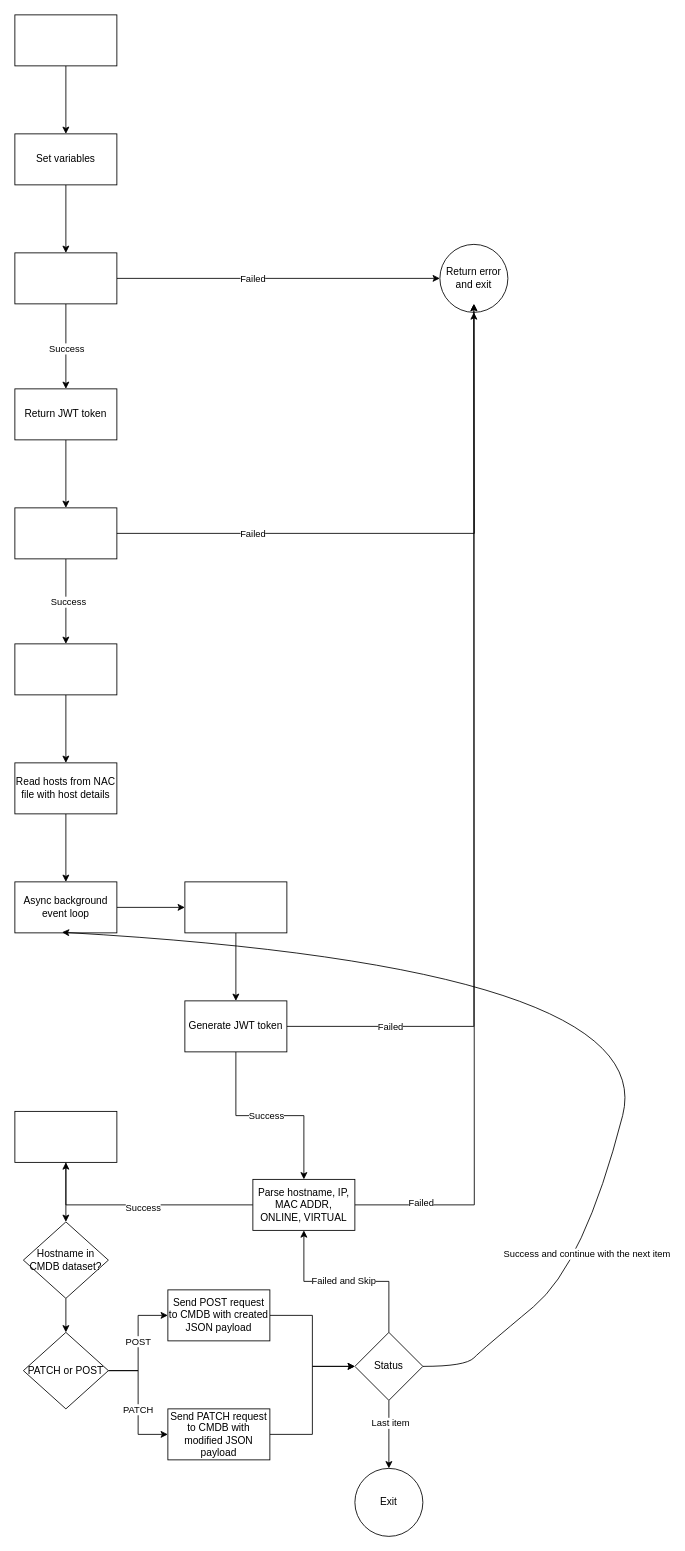
This 685x1551 diagram has some shape labels left out. Here are the shapes that lost their labels. From the top down, the box of each, then its label:
(14, 14, 117, 66): Start Program
(14, 252, 117, 304): HTTP POST for JWT authentication
(14, 507, 117, 559): HTTP GET for CMDB data
(14, 643, 117, 695): Parse JSON response from CMDB Inventory
(184, 881, 287, 933): Search function
(14, 1111, 117, 1162): Create JSON payload
